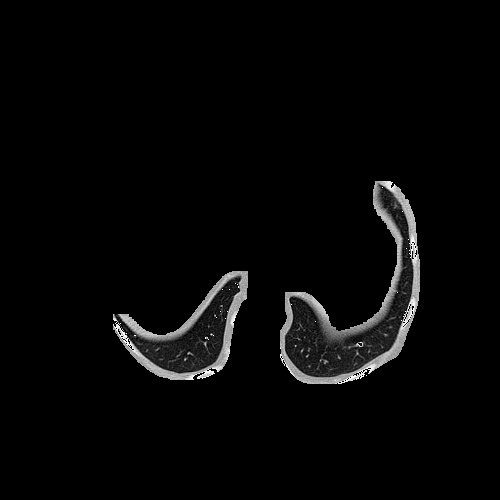PN: (356, 341, 362, 347)
